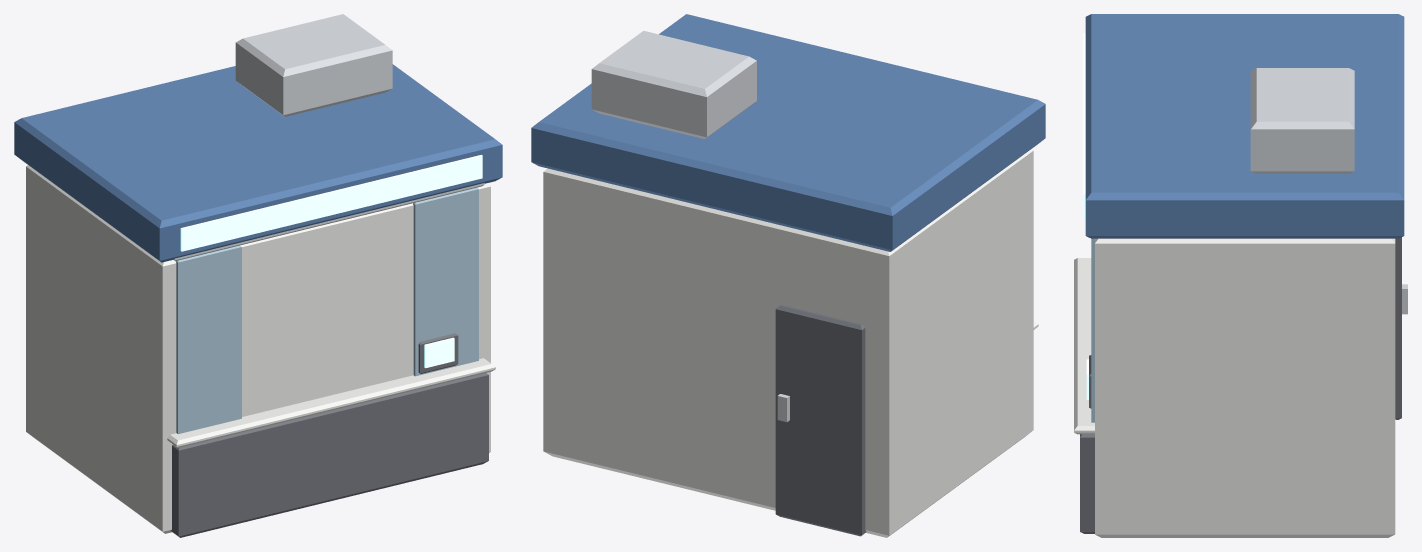
Rendered from airport-terminal-and-ground-operations-retail-unit-2a38d3df__26044.glb.
3 views of the same model, side by side, from view 1: azimuth 30°, elevation 25°; view 2: azimuth 150°, elevation 25°; view 3: azimuth 270°, elevation 25° (orthographic). The views are drawn at different scales.
Visible parts, largest first — view 1: retail-unit; view 2: retail-unit; view 3: retail-unit.
Boxes of the visible parts, x1,y1,x2,y2 form: retail-unit: (14,14,502,537); retail-unit: (531,14,1045,537); retail-unit: (1074,14,1407,537).
Bounding box in the file's own units: 3.76 × 3.84 × 2.89.
